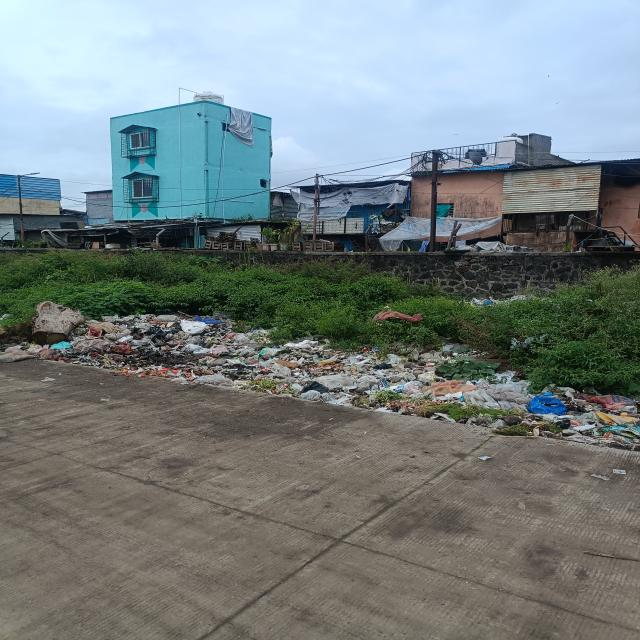garbage: (229, 323, 638, 457), (31, 304, 249, 381)
